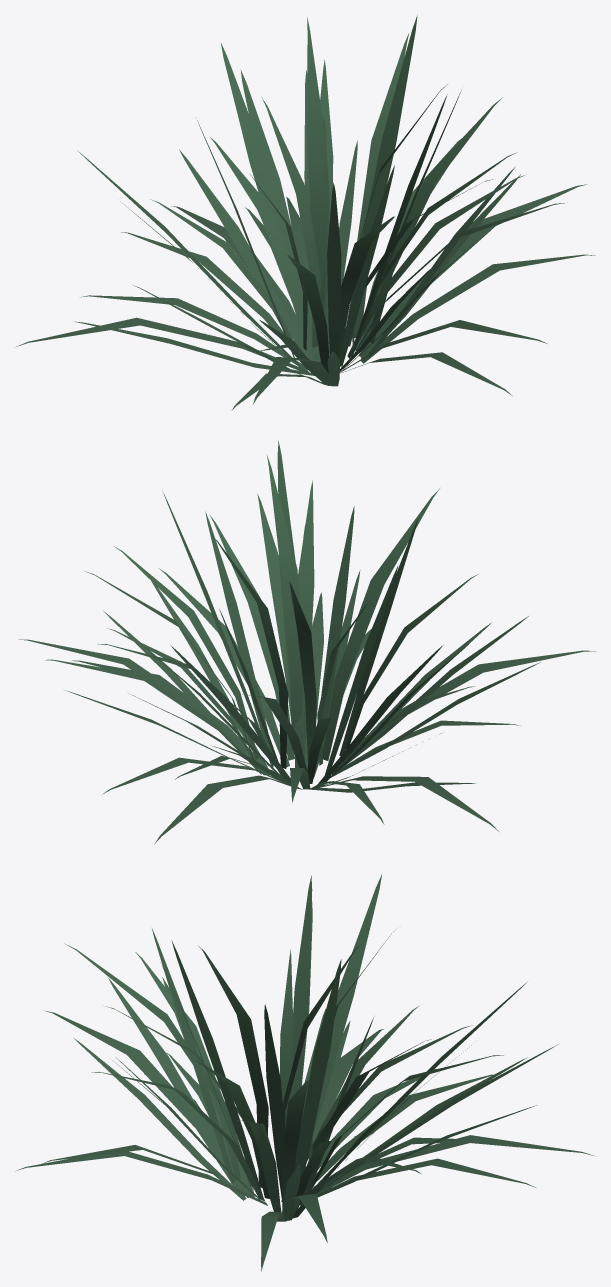
The picture shows the model from 3 angles, top to bottom: view 1: azimuth 30°, elevation 25°; view 2: azimuth 150°, elevation 25°; view 3: azimuth 270°, elevation 25°; orthographic projection. The views are drawn at different scales.
Visible parts, largest first — view 1: alt3.330; view 2: alt3.330; view 3: alt3.330.
Part boxes in pixels (x1,y1,x2,y2): alt3.330: [16, 15, 595, 410]; alt3.330: [19, 440, 596, 844]; alt3.330: [15, 874, 593, 1271].
Bounding box in the file's own units: 0.5 × 0.2691 × 0.4621.
